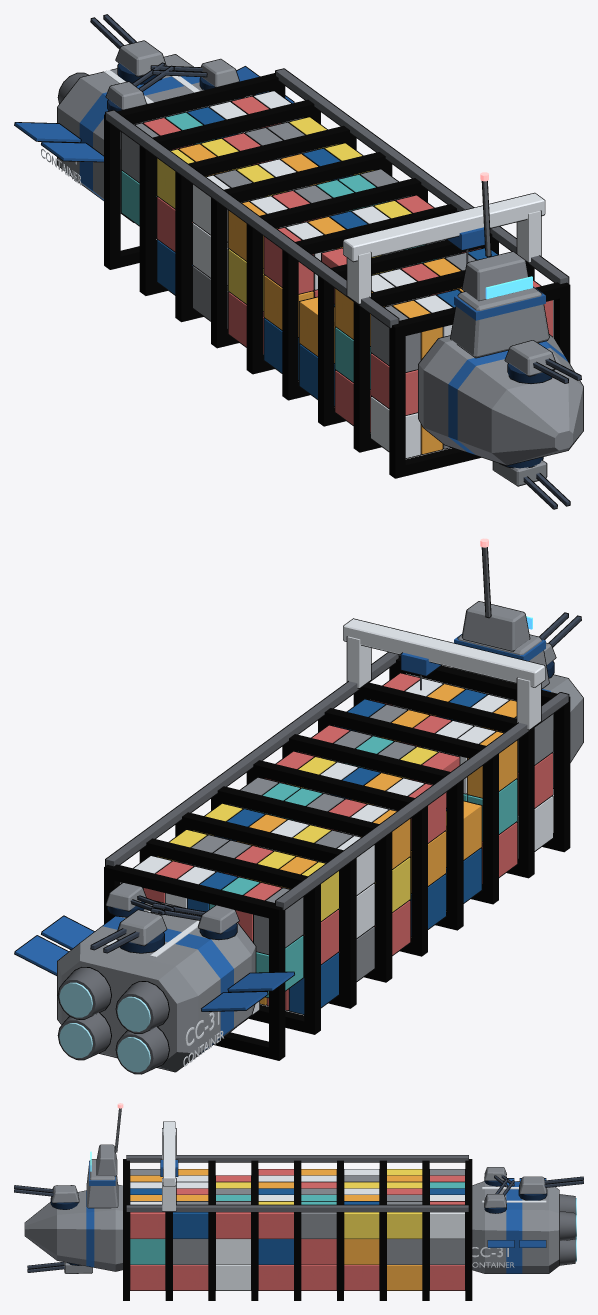
File: Cargo_Cruiser_Container.fbx
3 views of the same model, one above another, from view 1: azimuth 30°, elevation 25°; view 2: azimuth 150°, elevation 25°; view 3: azimuth 270°, elevation 25° (orthographic). The views are drawn at different scales.
Visible parts, largest first — view 1: Racks, Containers, Bow, Engine, Gantry_Beam, Bridge_A, Bridge_B, TurretAft_House, TurretBow_House, Gantry_Leg-20.050847457627118, Gantry_Leg20.050847457627118, Radiator-11 (+5 smaller); view 2: Racks, Containers, Engine, Gantry_Beam, Bridge_B, Bow, Eng_N11, Eng_N01, Radiator11, Gantry_Leg-20.050847457627118, TurretAft_House, Gantry_Leg20.050847457627118 (+12 smaller); view 3: Containers, Racks, Engine, Bow, Bridge_A, Gantry_Beam, Bridge_B, Eng_N11, TurretBow_House, TurretAft_House, Eng_N10, Gantry_Leg20.050847457627118 (+2 smaller).
Part boxes in pixels (x1,y1,x2,y2): Racks: (104,68,570,478); Containers: (121,90,553,458); Bow: (418,334,583,465); Engine: (57,54,237,222); Gantry_Beam: (343,192,545,262); Bridge_A: (450,287,549,358); Bridge_B: (461,251,528,301); TurretAft_House: (115,40,166,77); TurretBow_House: (504,340,555,376); Gantry_Leg-20.050847457627118: (346,252,371,304); Gantry_Leg20.050847457627118: (516,210,541,263); Radiator-11: (14,122,81,142); Racks: (104,652,570,1060); Containers: (121,672,553,1024); Engine: (57,900,256,1072); Gantry_Beam: (343,618,545,687); Bridge_B: (461,601,530,651); Bow: (443,674,583,788); Eng_N11: (57,967,111,1019); Eng_N01: (115,981,169,1033); Radiator11: (14,935,68,975); Gantry_Leg-20.050847457627118: (516,677,541,730); TurretAft_House: (116,909,167,946); Gantry_Leg20.050847457627118: (346,636,371,688); Containers: (130,1169,465,1290); Racks: (123,1155,472,1300); Engine: (472,1181,559,1273); Bow: (24,1184,122,1271); Bridge_A: (86,1159,118,1208); Gantry_Beam: (163,1121,175,1186); Bridge_B: (96,1144,117,1176); Eng_N11: (559,1211,575,1240); TurretBow_House: (51,1185,79,1203); TurretAft_House: (519,1176,546,1194); Eng_N10: (559,1239,575,1265); Gantry_Leg20.050847457627118: (162,1178,176,1211).
Size of the model in its own units: 54.79 by 64.21 by 194.
